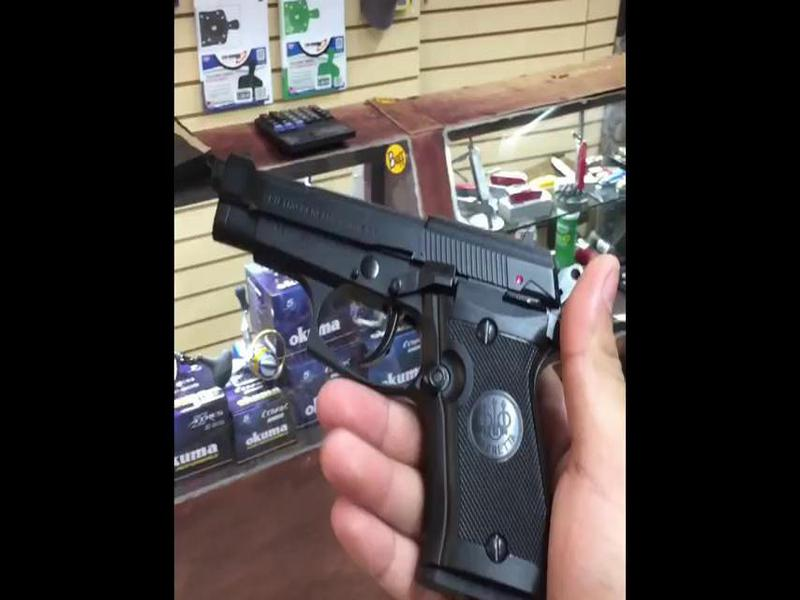Pistola: (210, 129, 571, 590)
